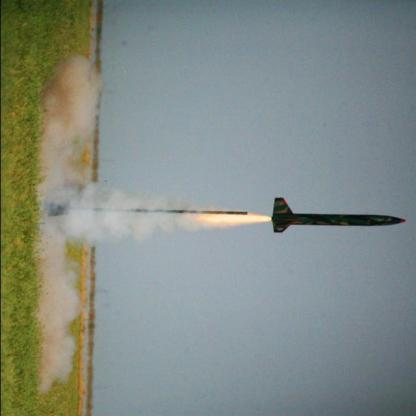MIL_TBM: (270, 196, 404, 235)
